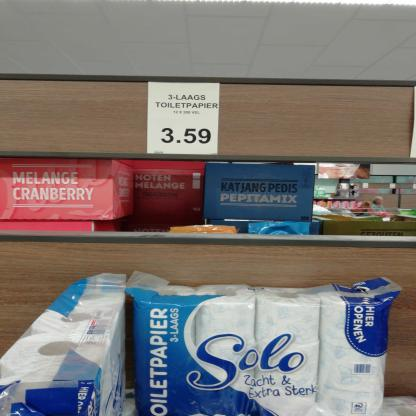prtg: (148, 83, 221, 156)
